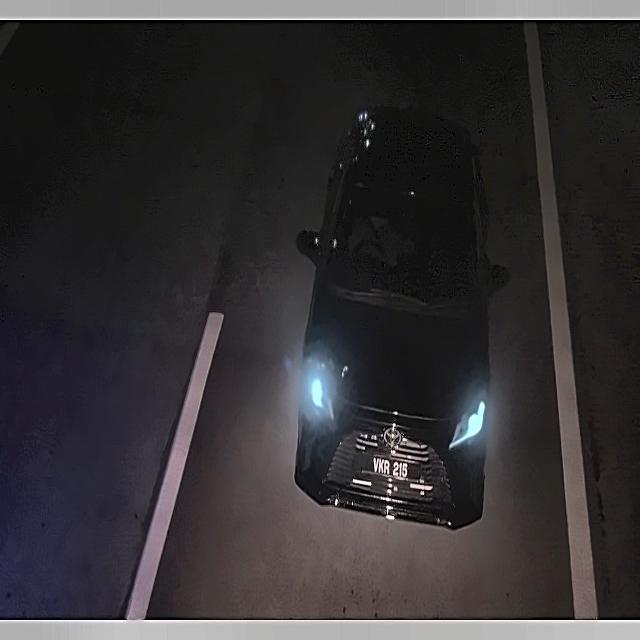car: (353, 448, 426, 489)
